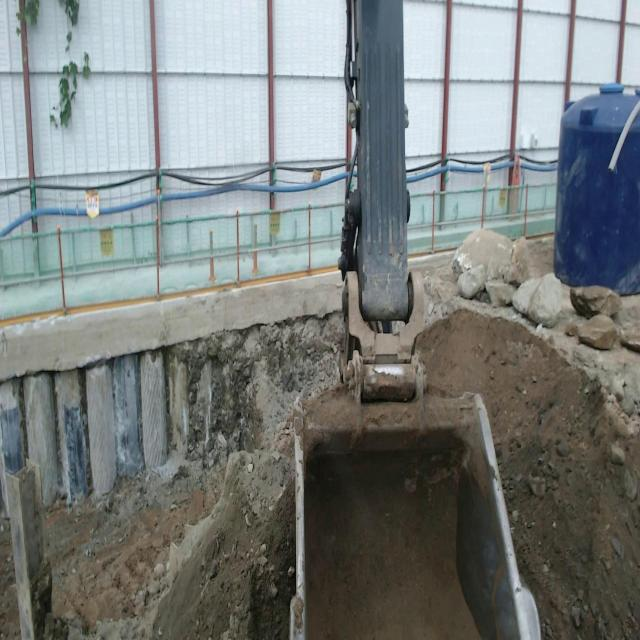red-sand: (418, 309, 640, 639), (46, 414, 295, 639), (0, 516, 20, 639)
stone: (453, 229, 552, 284), (569, 286, 621, 350), (512, 273, 564, 327), (457, 265, 486, 299), (486, 280, 517, 307)
